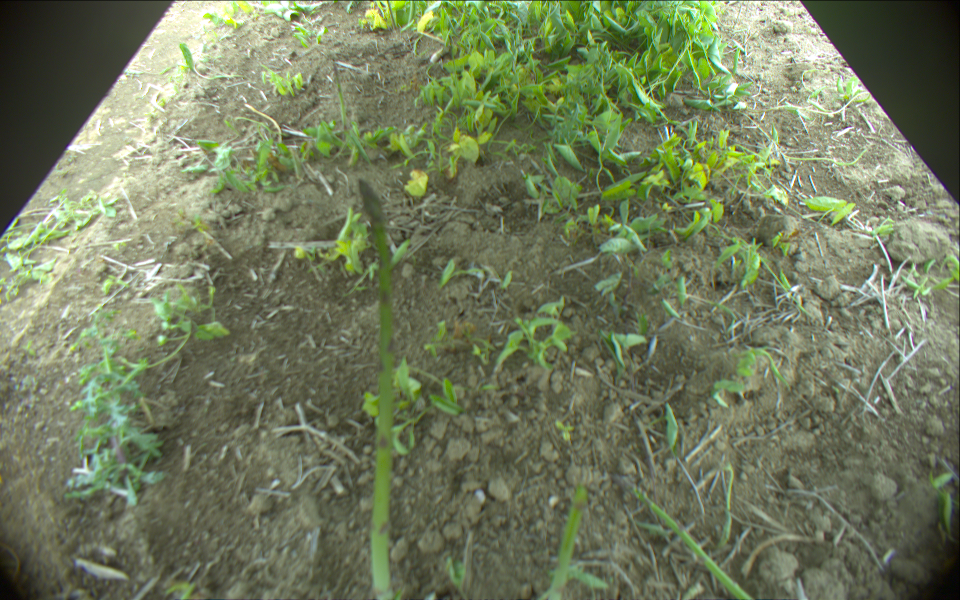aspa: (357, 178, 400, 600), (631, 487, 755, 600), (546, 485, 589, 600), (333, 54, 346, 130)
